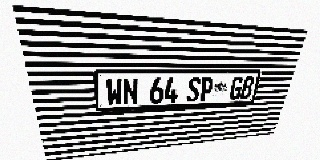4: (164, 77, 179, 103)
6: (149, 77, 165, 104)
B: (239, 77, 255, 99)
G: (229, 77, 244, 100)
N: (123, 78, 138, 105)
P: (199, 77, 214, 101)
S: (186, 77, 202, 102)
W: (105, 78, 123, 106)
